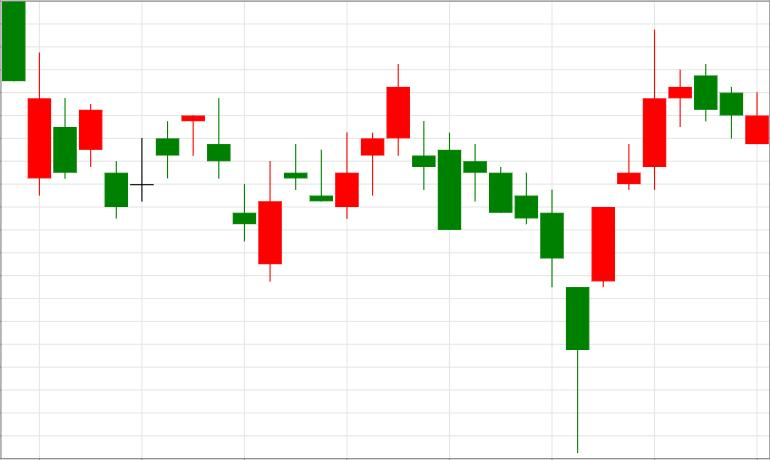bullish_engulfing_rise: (181, 98, 282, 282)
hammer_rise: (413, 121, 589, 453)
three_white_soldiers_rise: (412, 30, 666, 454)
